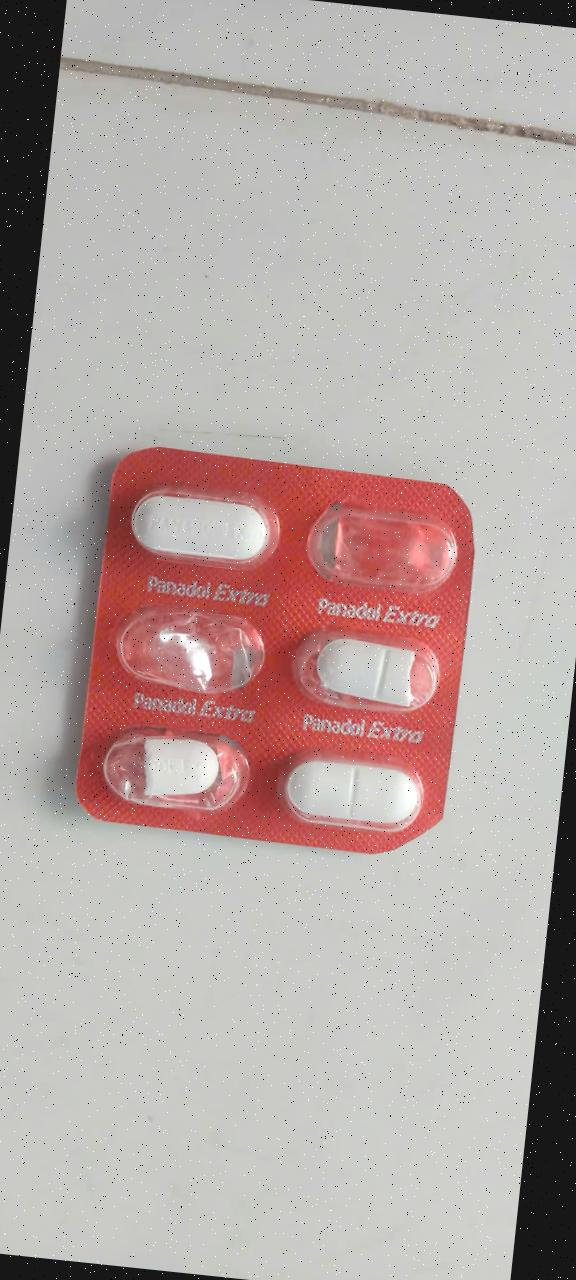Empty: (113, 600, 273, 701), (300, 497, 460, 598)
Full: (127, 476, 287, 577), (276, 738, 436, 839)
Partial: (290, 618, 450, 719), (95, 719, 255, 820)
